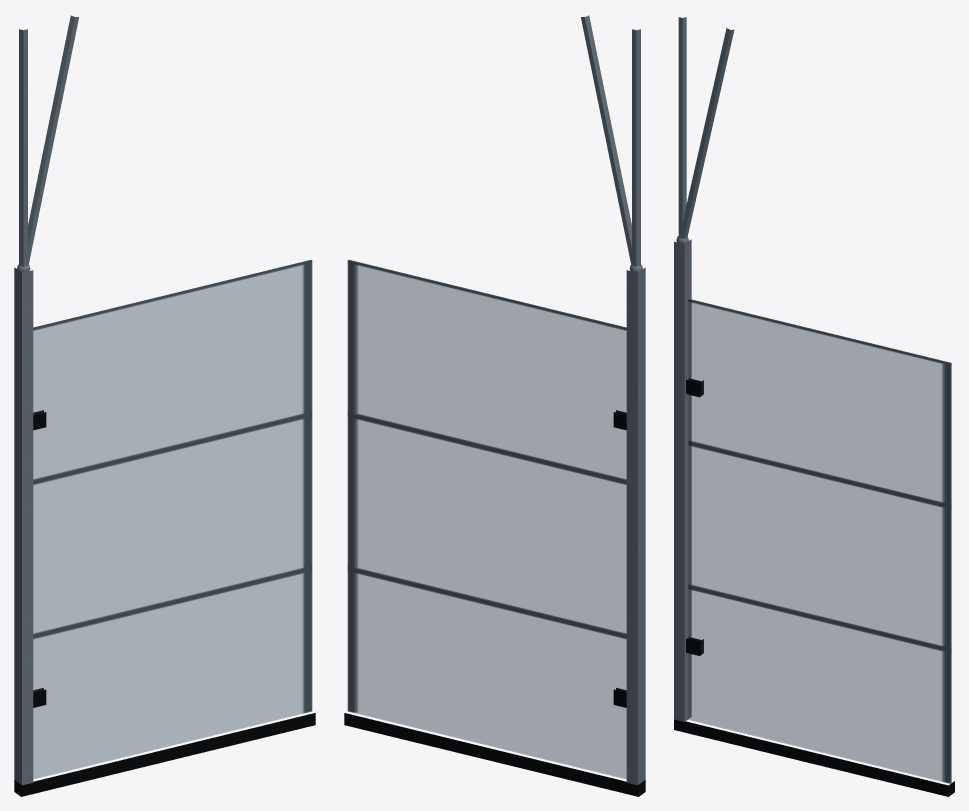
The picture shows the model from 3 angles, left to right: view 1: azimuth 30°, elevation 25°; view 2: azimuth 150°, elevation 25°; view 3: azimuth 330°, elevation 25°; orthographic projection. The views are drawn at different scales.
Parts seen in each view (by area): view 1: Glass_Court_Pane, Post_Steel, Floor_Channel; view 2: Glass_Court_Pane, Post_Steel, Floor_Channel; view 3: Glass_Court_Pane, Post_Steel, Floor_Channel, Pane_Clamps.
Part boxes in pixels (left/top/right/bottom): Glass_Court_Pane: left=33, top=260, right=312, bottom=778; Post_Steel: left=14, top=15, right=78, bottom=785; Floor_Channel: left=14, top=713, right=315, bottom=796; Glass_Court_Pane: left=347, top=260, right=626, bottom=778; Post_Steel: left=581, top=15, right=645, bottom=785; Floor_Channel: left=344, top=713, right=645, bottom=796; Glass_Court_Pane: left=688, top=299, right=951, bottom=783; Post_Steel: left=674, top=17, right=734, bottom=721; Floor_Channel: left=674, top=719, right=954, bottom=796; Pane_Clamps: left=686, top=378, right=703, bottom=655.
Size of the model in its own units: 2 by 4.97 by 0.09.
Materials: 3 (3 with a texture image).
